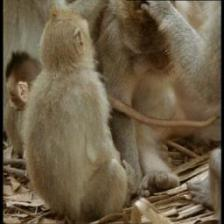monkey: (0, 44, 37, 120), (142, 34, 180, 82)
